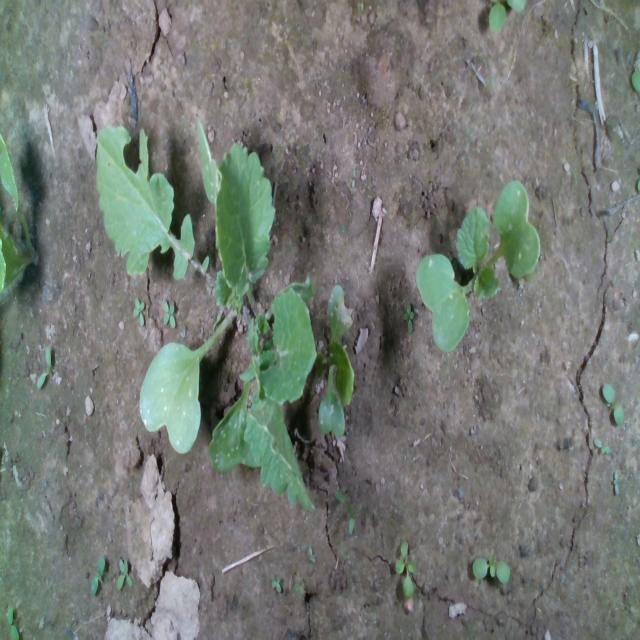weed: (393, 537, 417, 600), (471, 552, 511, 585), (601, 380, 625, 426), (35, 341, 53, 391), (90, 554, 106, 596), (116, 555, 132, 590), (161, 297, 177, 330), (130, 295, 146, 327), (402, 300, 414, 334), (592, 436, 612, 454), (268, 570, 282, 594), (611, 468, 620, 496)
